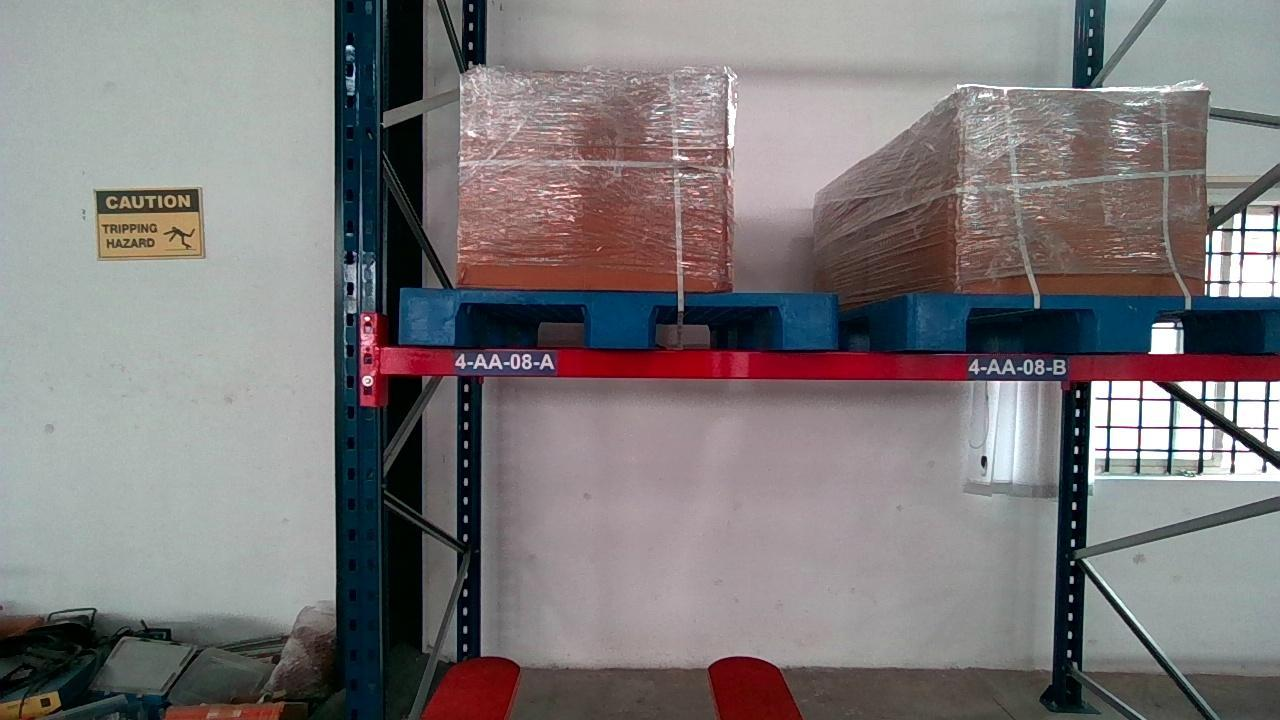h_rack: (380, 348, 1279, 380)
small_pallet: (400, 290, 838, 348), (916, 294, 1279, 351)
